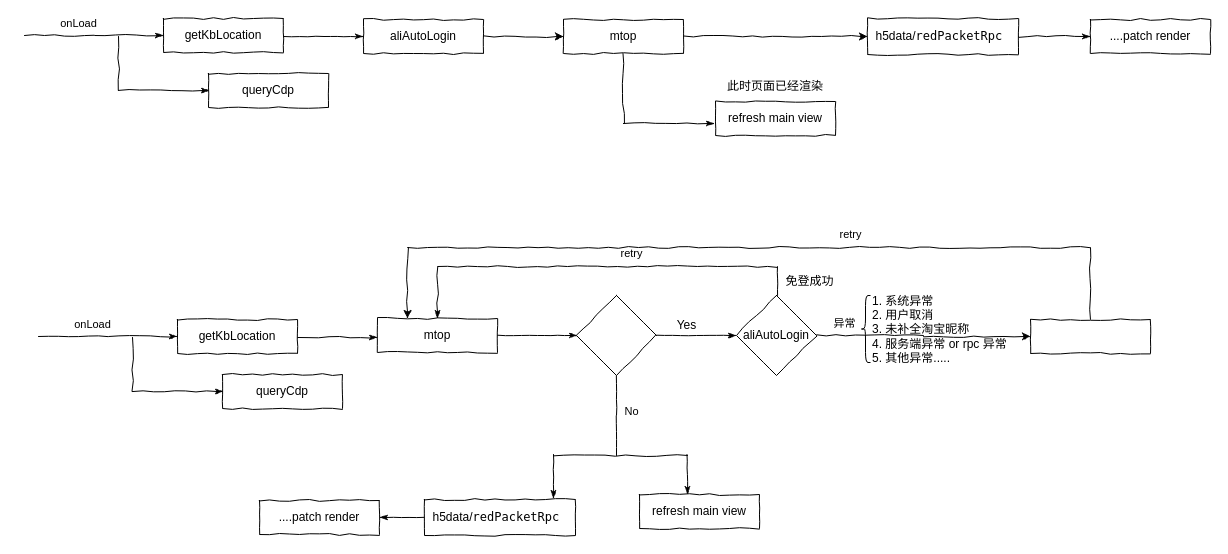
Image size: 1228x554. Some labels were removed from this diagram. Here are the shapes that lost their labels. From the top down, the box of each, then its label:
(576, 294, 656, 376): 未授权错误？
(1030, 318, 1150, 354): show retry error view
